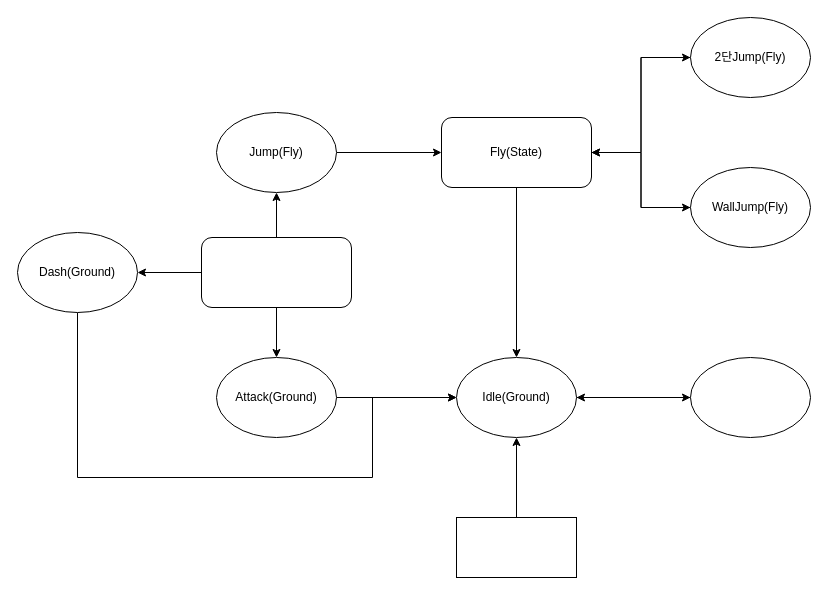
The diagram is 828 pixels wide and 595 high, and some of its shapes have lost their labels. The box of each missing label's shape, as (x1, y1, x2, y2) in pixels:
GameStart: (456, 516, 576, 578)
Ground(State ): (200, 236, 352, 308)
Move(Ground ): (690, 356, 810, 438)
